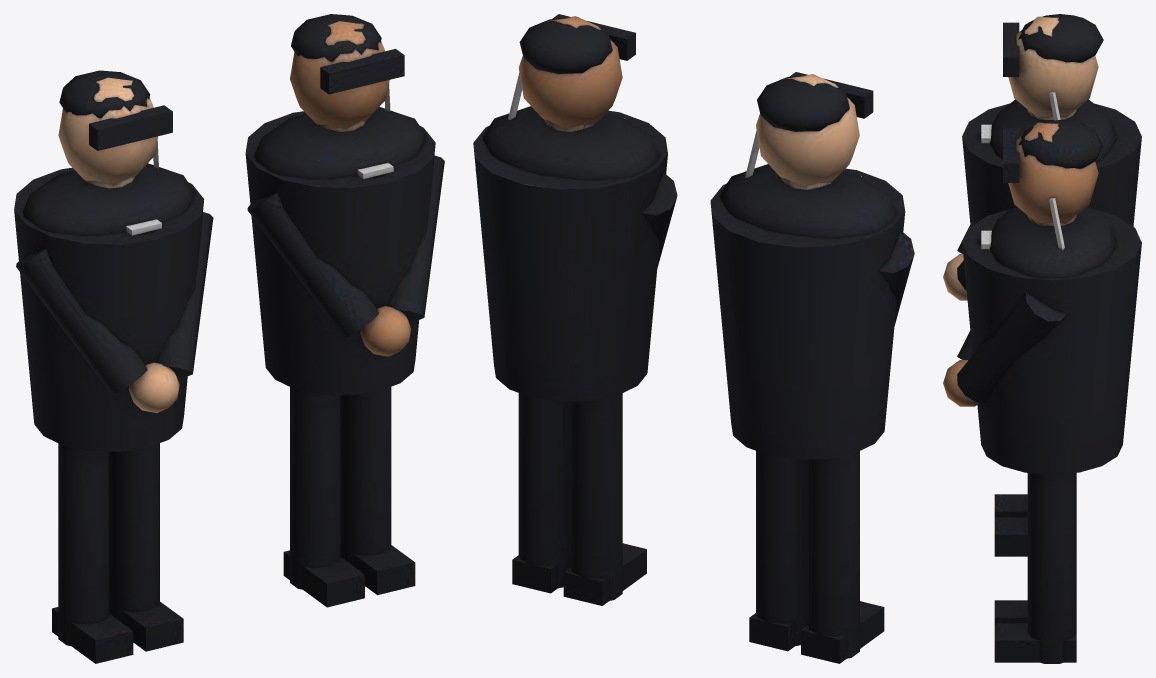
File: agentes.glb
3 views of the same model, side by side, from view 1: azimuth 30°, elevation 25°; view 2: azimuth 150°, elevation 25°; view 3: azimuth 270°, elevation 25° (orthographic). The views are drawn at different scales.
Parts seen in each view (by area): view 1: agentes; view 2: agentes; view 3: agentes.
Boxes of the visible parts, left/top/right/bottom form: agentes: left=14, top=14, right=444, bottom=663; agentes: left=473, top=14, right=914, bottom=663; agentes: left=943, top=14, right=1141, bottom=663.
Bounding box in the file's own units: 1.68 × 2.1 × 0.73.
1 material, 1 textured.
